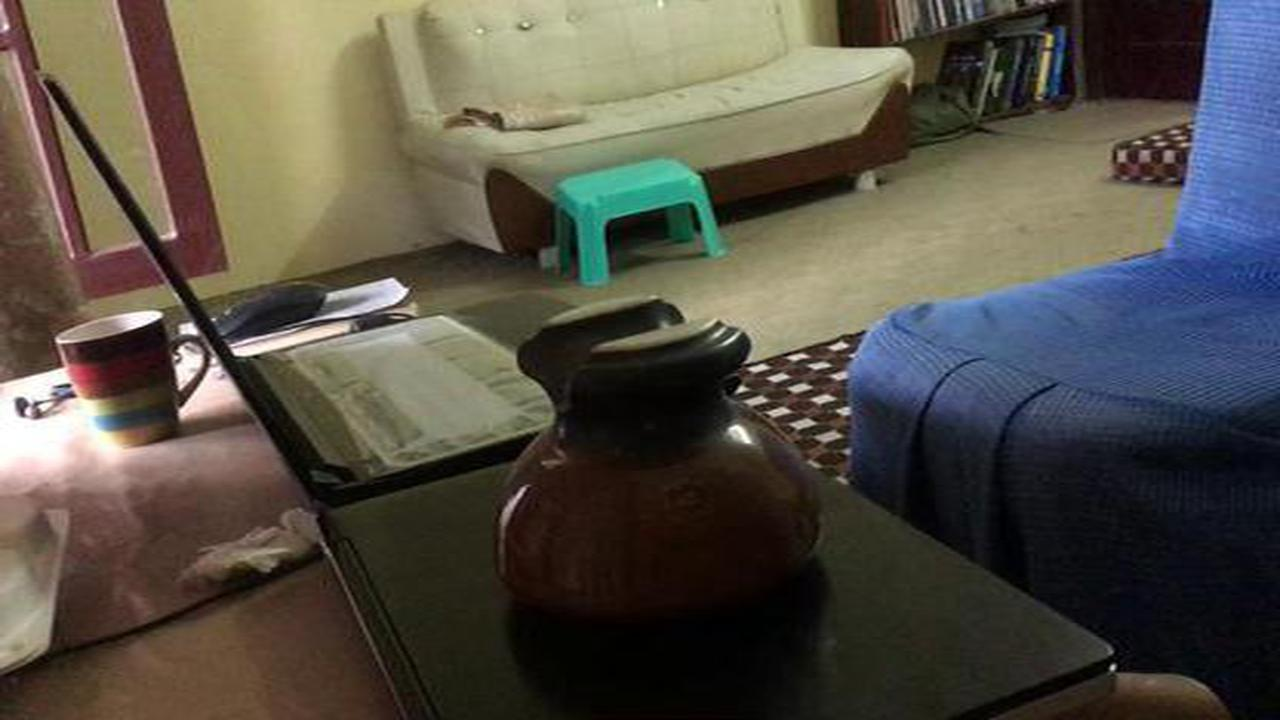insulator_pin: (459, 281, 841, 634)
